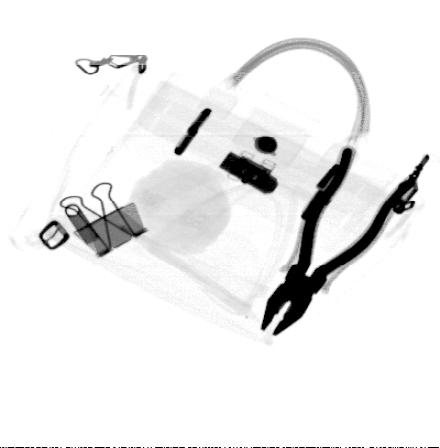Pliers: (260, 144, 419, 338)
